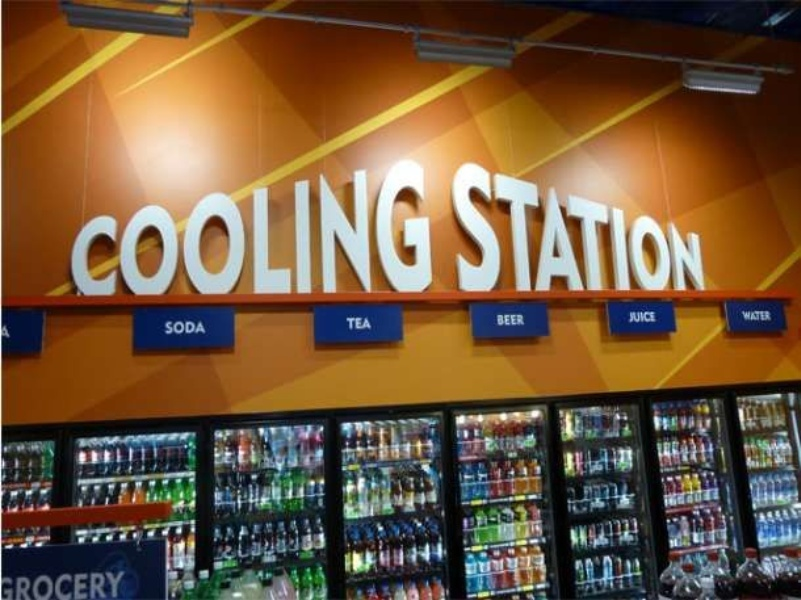text: (449, 155, 464, 293), (465, 155, 480, 293), (481, 155, 496, 293), (497, 155, 512, 293), (513, 155, 528, 293), (529, 155, 544, 293), (545, 155, 560, 293), (561, 155, 576, 293), (577, 155, 592, 293), (593, 155, 608, 293), (609, 155, 624, 293), (625, 155, 640, 293), (641, 155, 656, 293), (657, 155, 672, 293), (673, 155, 688, 293), (689, 155, 704, 293), (81, 159, 96, 296), (97, 159, 112, 296), (113, 159, 128, 296), (129, 159, 144, 296), (145, 159, 160, 296), (161, 159, 176, 296), (177, 159, 192, 296), (193, 159, 208, 296), (209, 159, 224, 296), (225, 159, 240, 296), (241, 159, 256, 296), (257, 159, 272, 296), (273, 159, 288, 296), (289, 159, 304, 296), (305, 159, 320, 296), (321, 159, 336, 296), (337, 159, 352, 296), (353, 159, 368, 296), (369, 159, 384, 296), (385, 159, 400, 296), (401, 159, 416, 296), (417, 159, 431, 296), (75, 159, 80, 296), (1, 569, 16, 600), (17, 569, 32, 600), (33, 569, 48, 600), (49, 569, 64, 600), (65, 569, 80, 600), (81, 569, 96, 600), (97, 569, 112, 600), (113, 569, 125, 600), (705, 155, 707, 293), (177, 320, 192, 334), (353, 316, 368, 330), (1, 325, 16, 339), (497, 313, 512, 326), (641, 310, 656, 323), (753, 309, 768, 322), (163, 320, 176, 334), (193, 320, 205, 334), (628, 310, 640, 323), (740, 309, 752, 322), (513, 313, 524, 326), (447, 155, 448, 293), (346, 316, 352, 330), (769, 309, 774, 322), (369, 316, 372, 330)
